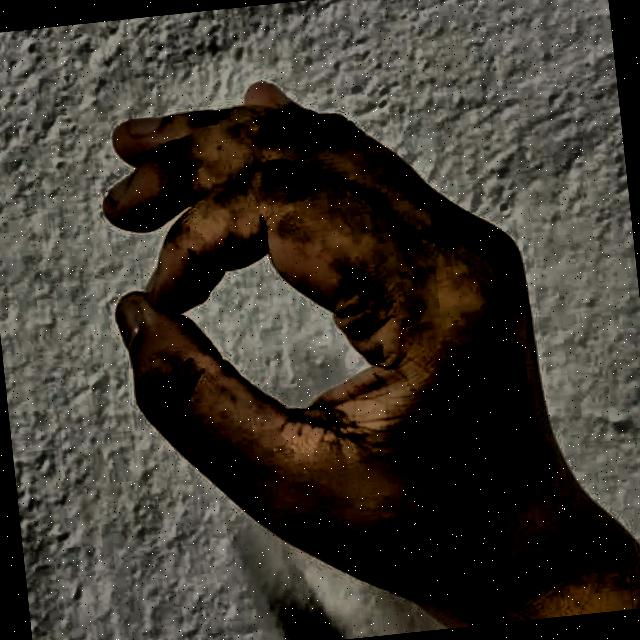Yo: (45, 22, 634, 640)
